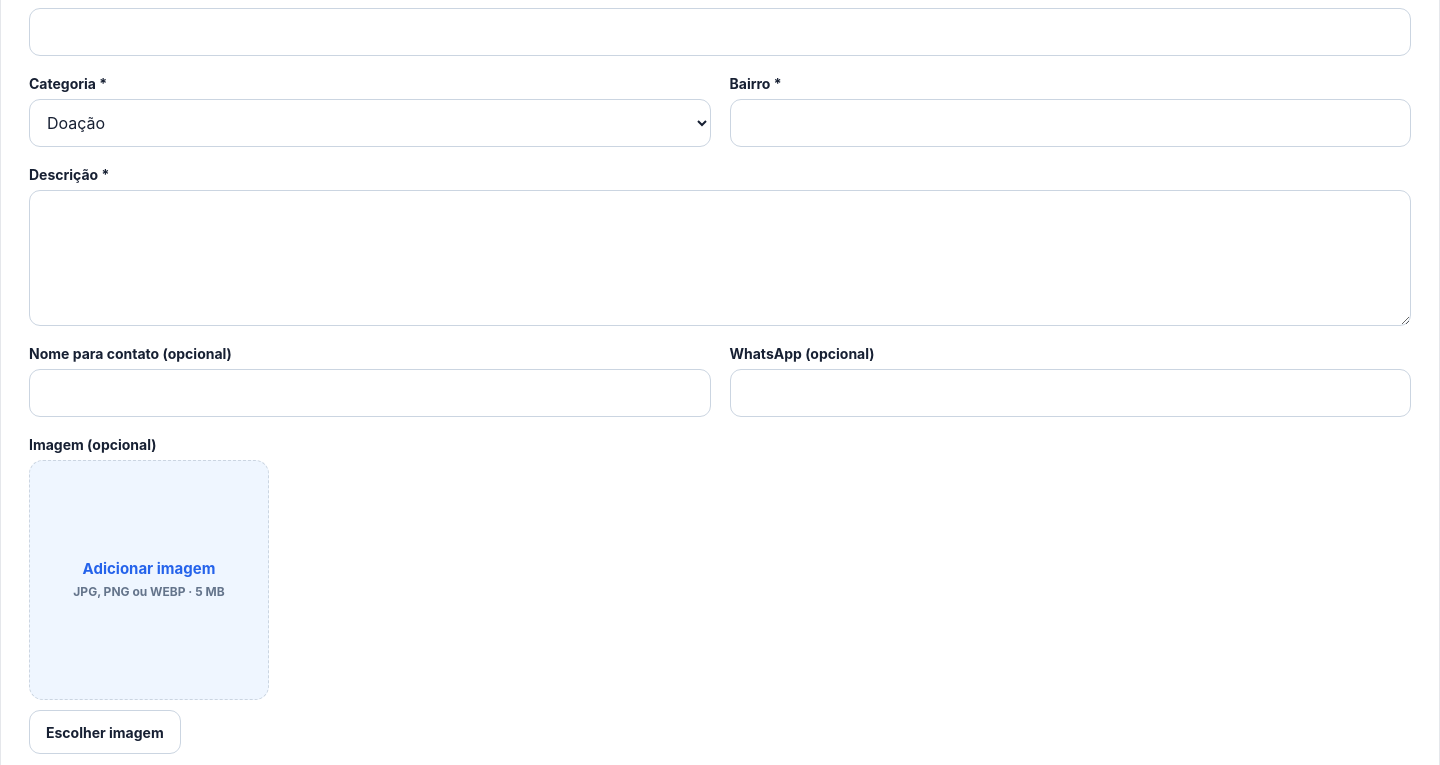
Test: AnnouncementForm › explains the minimum description length in Portuguese
The width and height of the screenshot is (1440, 765).
Type "Doação de livros" into the field labelled "Título *" at (720, 32), box x1=29 y1=8 x2=1411 y2=56
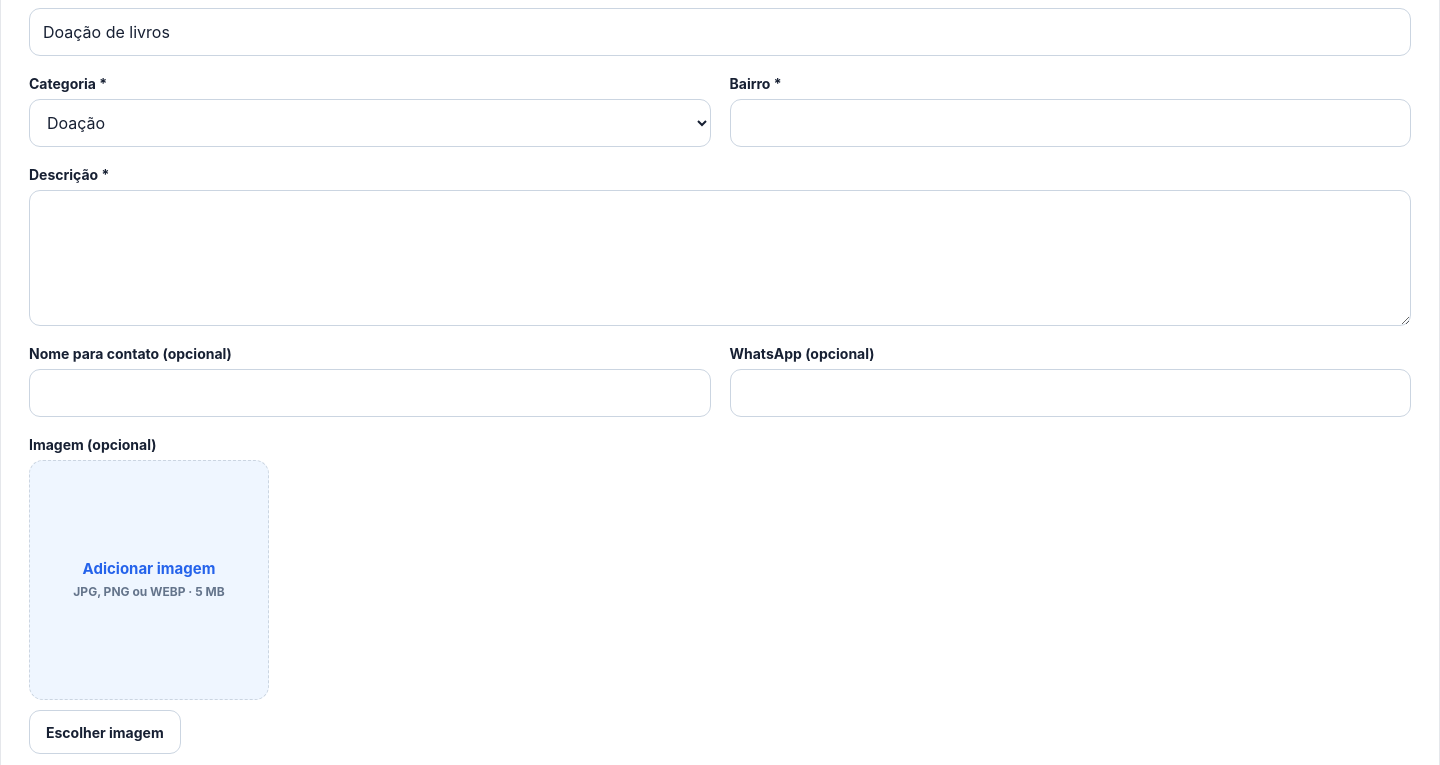
Type "Centro" into the field labelled "Bairro *" at (1070, 123), box x1=730 y1=99 x2=1411 y2=147
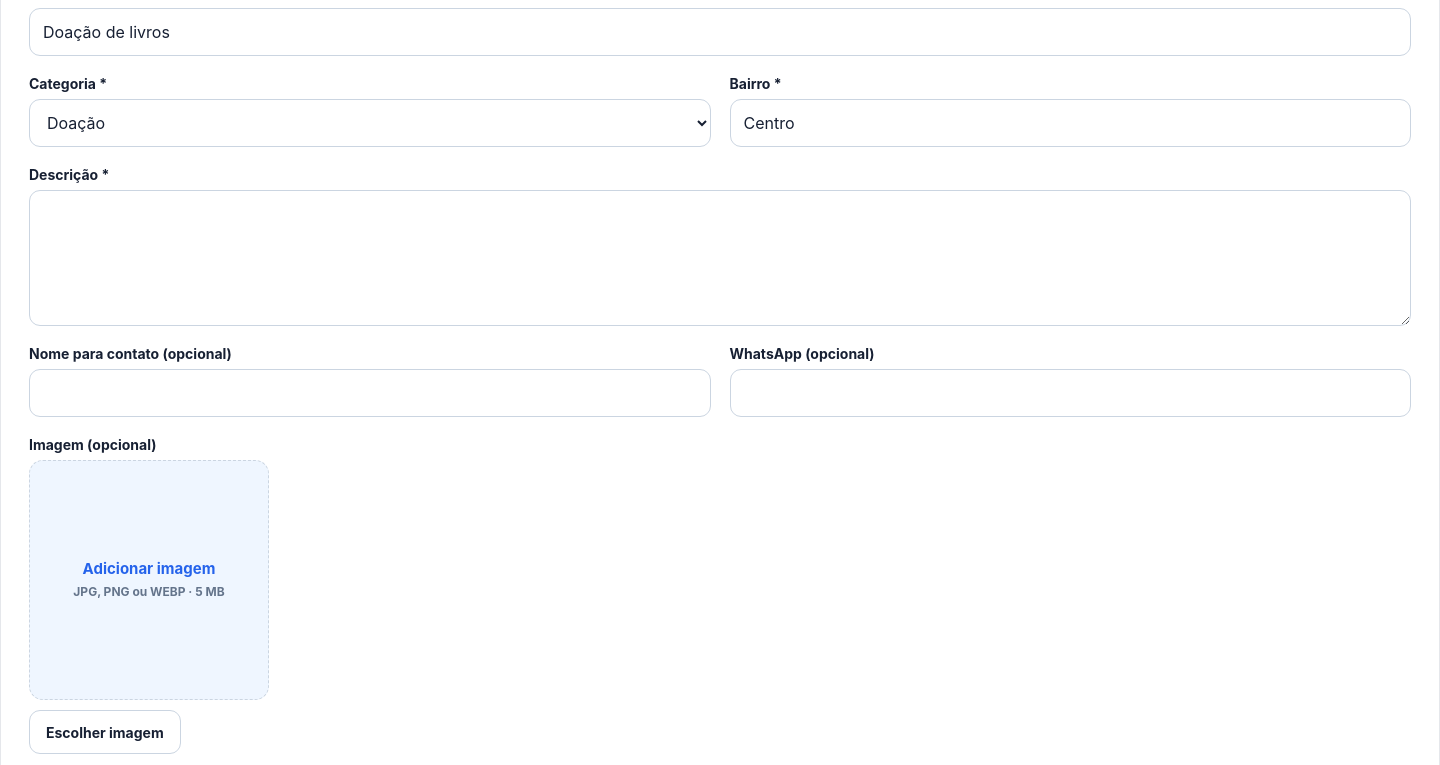
Type "Curta" into the text box labelled "Descrição *" at (720, 258), box x1=29 y1=190 x2=1411 y2=326
(page scrolled)
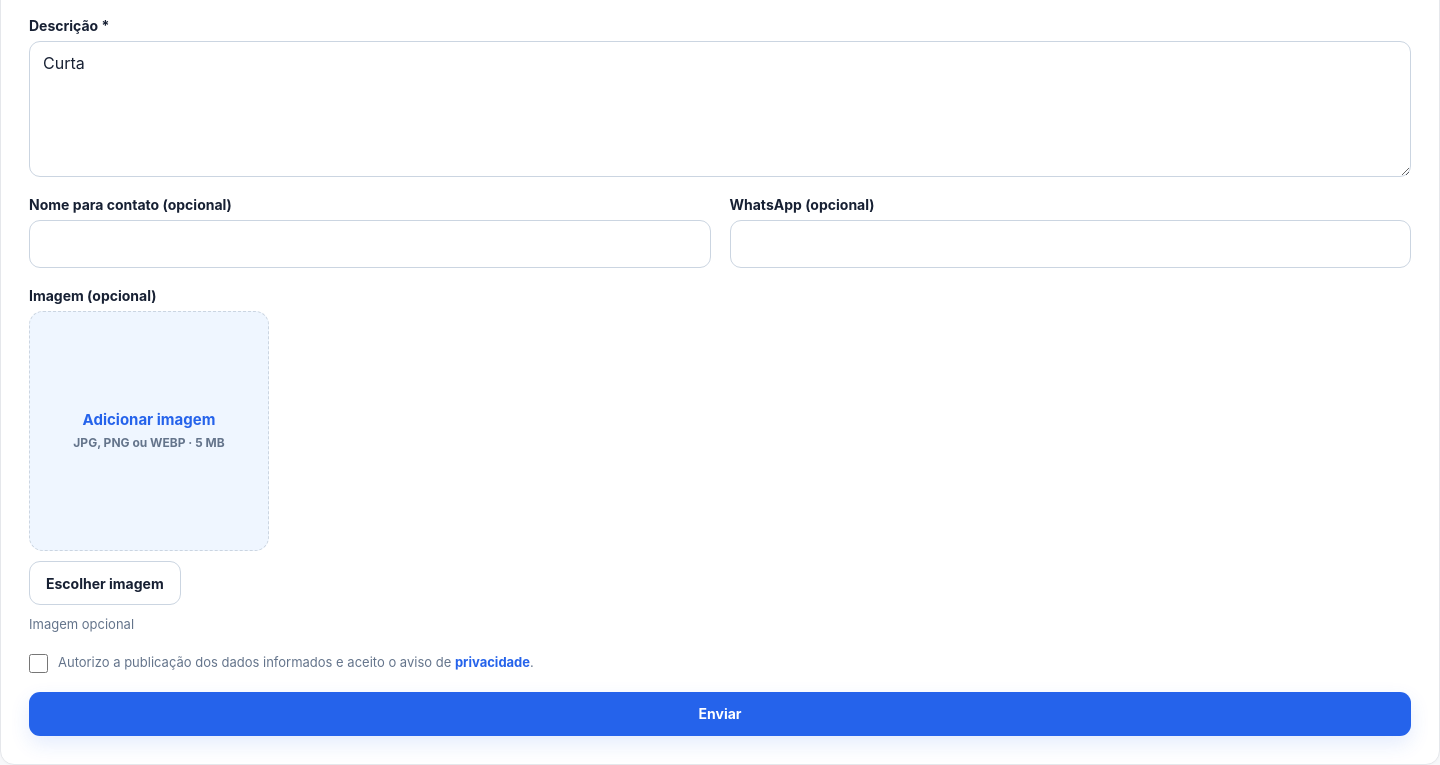
Click the button "Enviar" at (720, 714), box x1=29 y1=692 x2=1411 y2=736
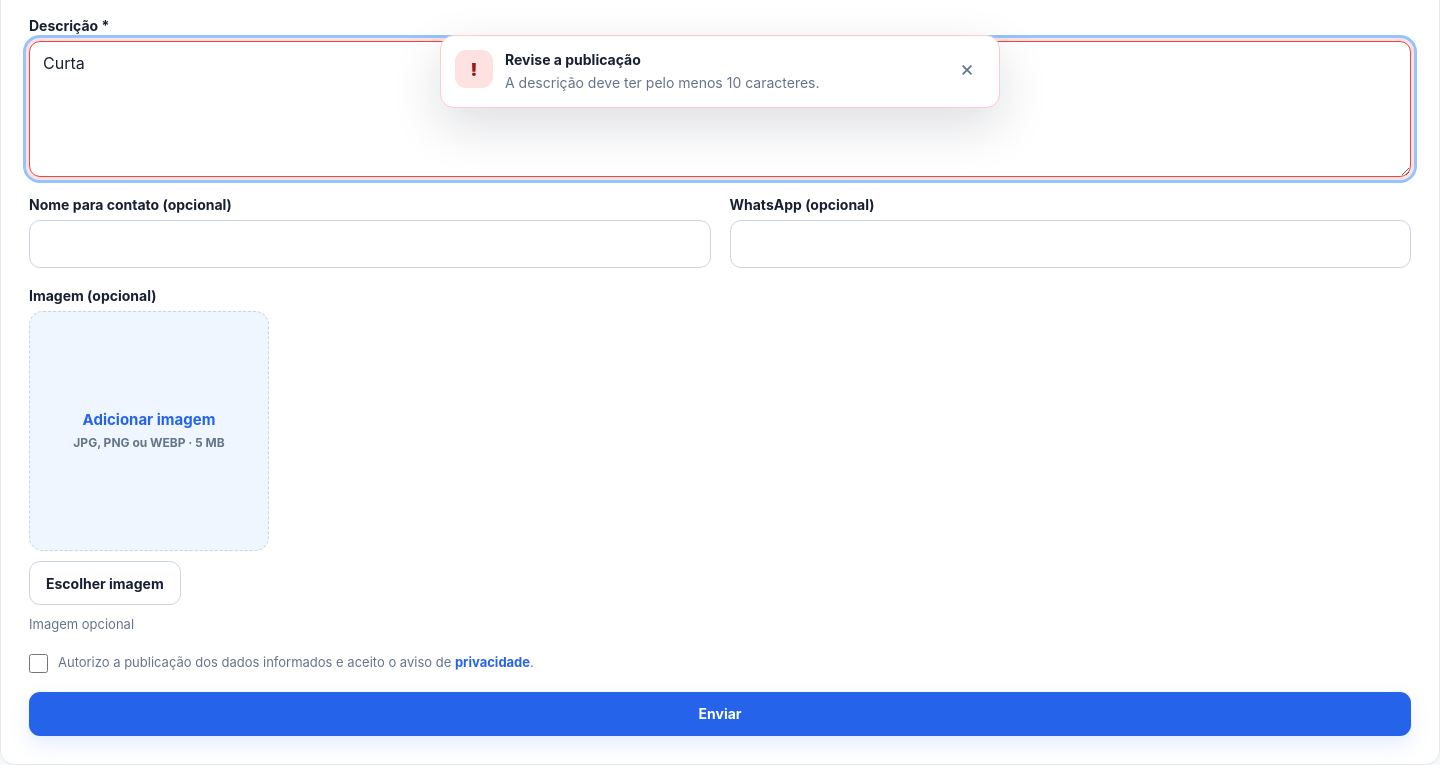
Result: the text "A descrição deve ter pelo menos 10 caracteres." is shown at x1=505 y1=74 x2=820 y2=90
